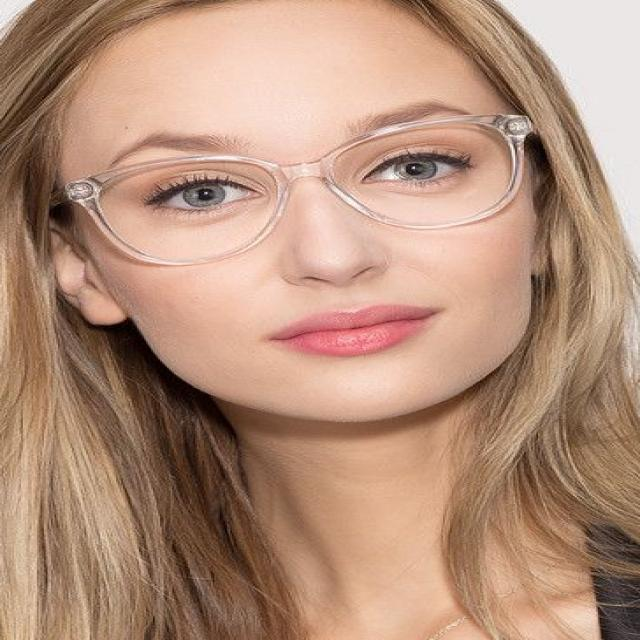Glasses: (42, 109, 538, 272)
